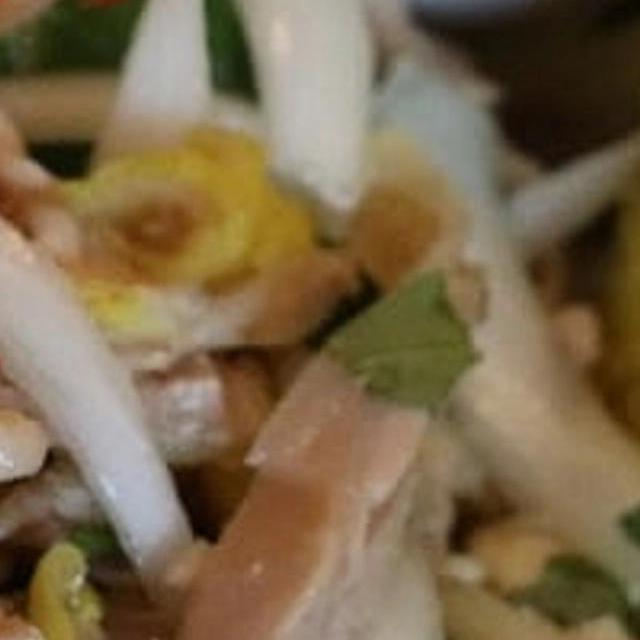com ga: (0, 0, 640, 640)
thit ga: (0, 120, 489, 640)
